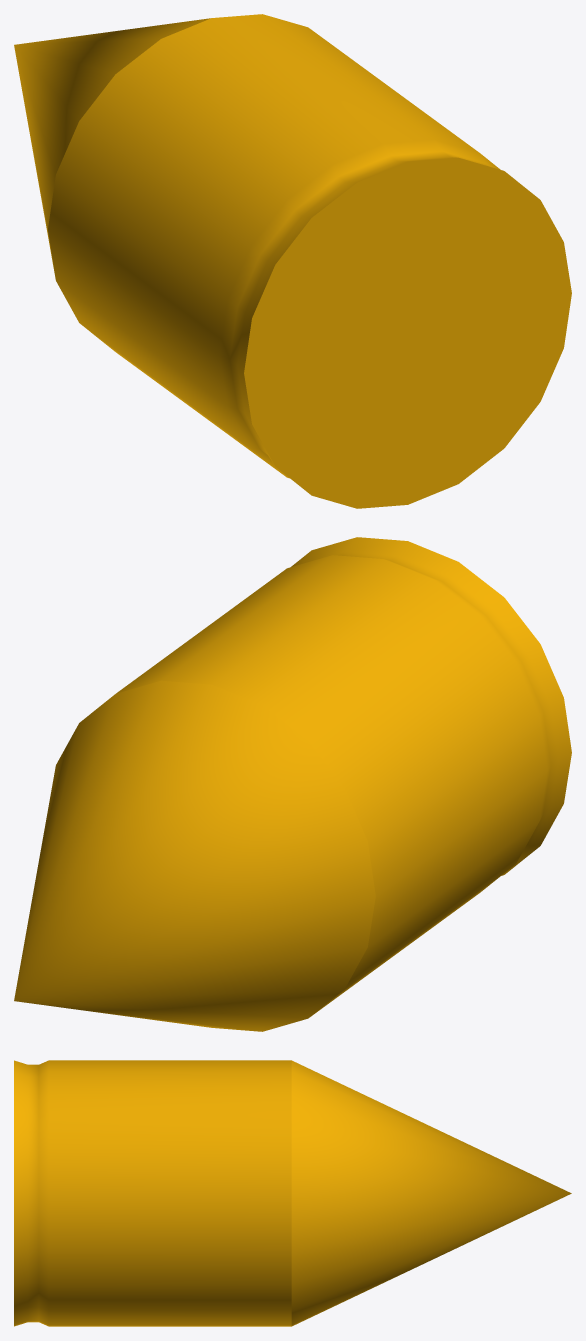
Rendered from Bullet1.fbx.
3 renders of one model, top to bottom at view 1: azimuth 30°, elevation 25°; view 2: azimuth 150°, elevation 25°; view 3: azimuth 270°, elevation 25°, orthographic. The views are drawn at different scales.
Parts seen in each view (by area): view 1: pCylinder51; view 2: pCylinder51; view 3: pCylinder51.
Boxes of the visible parts, bbox=[...] form: pCylinder51: bbox=[14, 14, 571, 508]; pCylinder51: bbox=[14, 537, 571, 1031]; pCylinder51: bbox=[14, 1060, 571, 1326].
Bounding box in the file's own units: 0.0212 × 0.0212 × 0.0442.
